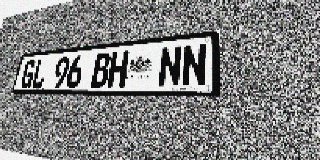6: (65, 55, 85, 88)
9: (52, 56, 71, 88)
B: (90, 52, 112, 88)
G: (19, 59, 37, 88)
H: (107, 51, 129, 87)
L: (30, 58, 49, 88)
N: (181, 43, 207, 87), (157, 45, 182, 87)
